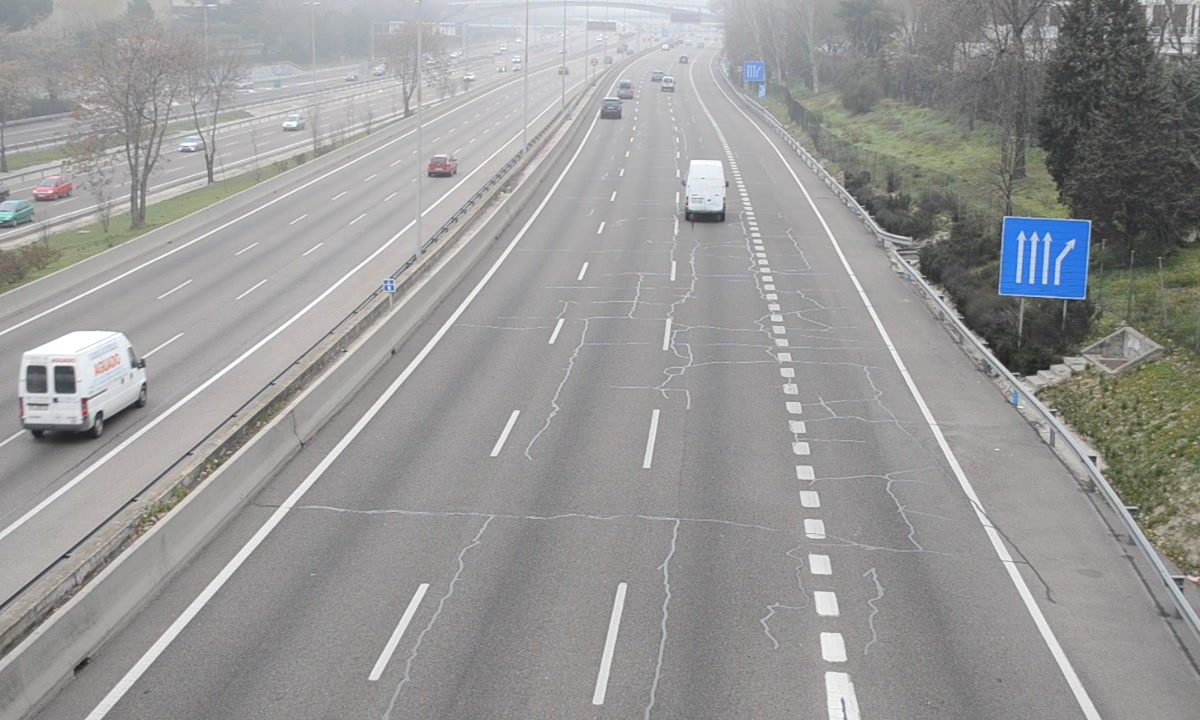car: (600, 96, 625, 120)
van: (685, 159, 729, 223)
